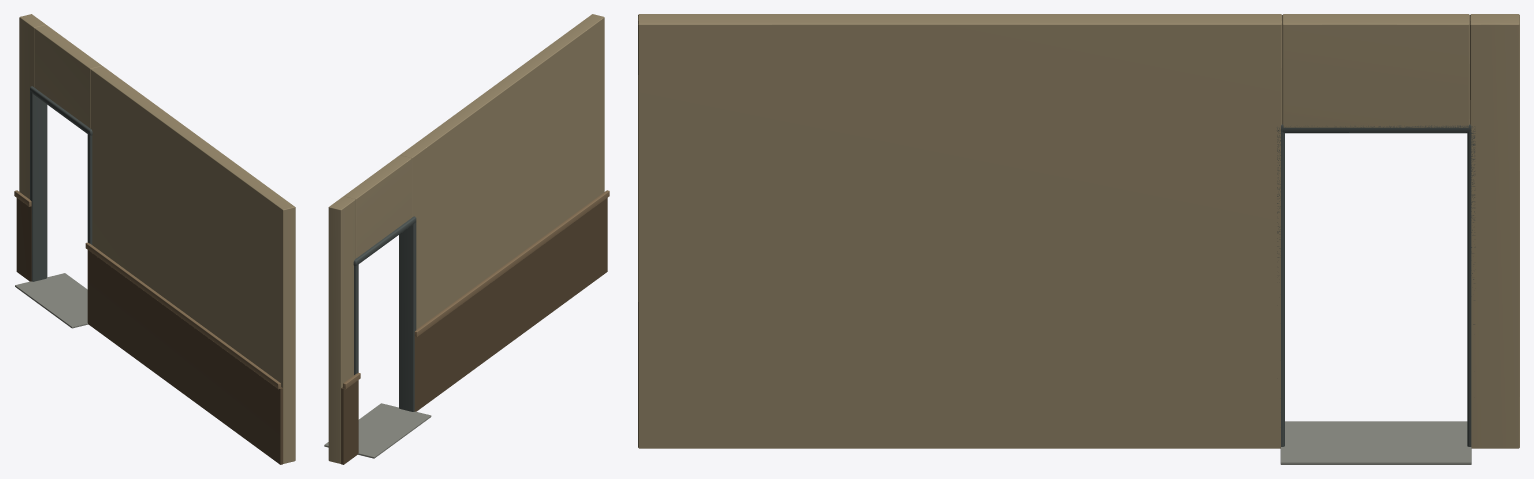
File: Repair_LeftPartition62.fbx
3 renders of one model, left to right at view 1: azimuth 30°, elevation 25°; view 2: azimuth 150°, elevation 25°; view 3: azimuth 270°, elevation 25°, orthographic. The views are drawn at different scales.
Parts seen in each view (by area): view 1: Repair_LeftPartition62; view 2: Repair_LeftPartition62; view 3: Repair_LeftPartition62.
Boxes of the visible parts, x1,y1,x2,y2 form: Repair_LeftPartition62: [14, 14, 295, 464]; Repair_LeftPartition62: [324, 14, 609, 464]; Repair_LeftPartition62: [638, 14, 1519, 464].
Size of the model in its own units: 62 by 301 by 564.
